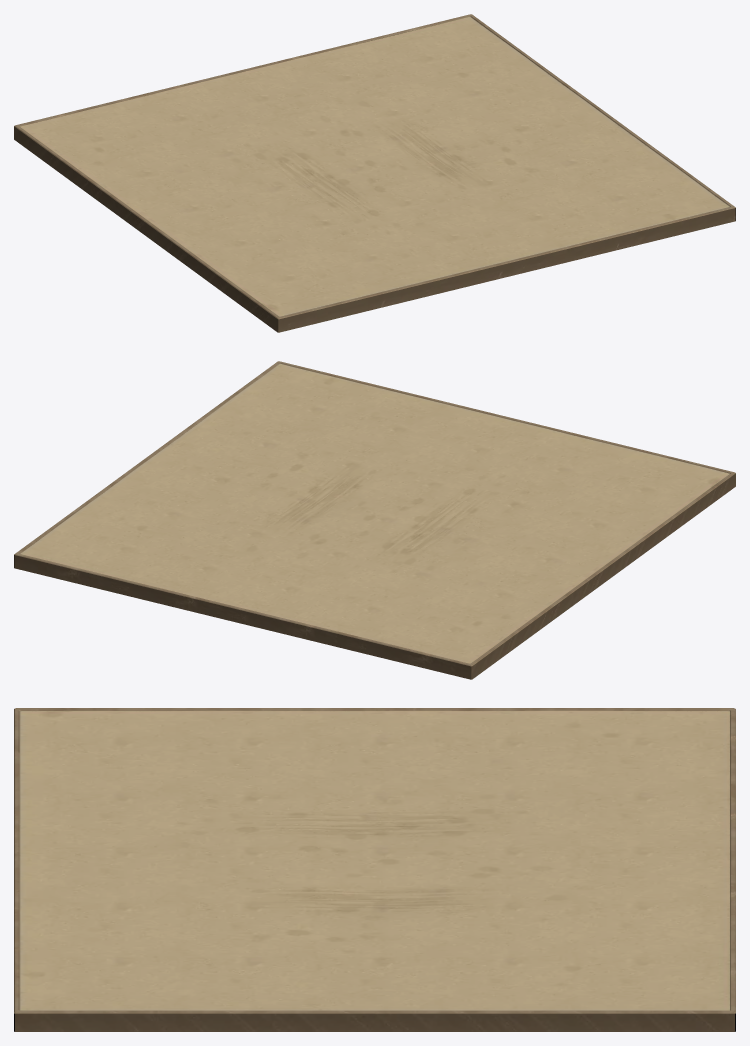
File: sandbox_pad.glb
3 renders of one model, top to bottom at view 1: azimuth 30°, elevation 25°; view 2: azimuth 150°, elevation 25°; view 3: azimuth 270°, elevation 25°, orthographic. The views are drawn at different scales.
Visible parts, largest first — view 1: sb_sand, sb_rim; view 2: sb_sand, sb_rim; view 3: sb_sand, sb_rim.
Part boxes in pixels (<box>): sb_sand: <box>20,16,729,316</box>; sb_rim: <box>14,14,735,332</box>; sb_sand: <box>20,363,729,663</box>; sb_rim: <box>14,361,735,679</box>; sb_sand: <box>19,710,730,1010</box>; sb_rim: <box>14,708,735,1031</box>.
Bounding box in the file's own units: 5 × 0.1453 × 5.
2 materials, 2 textured.
